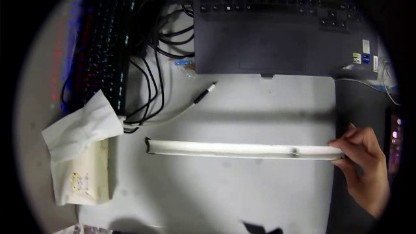gangzhu: (289, 146, 298, 159)
